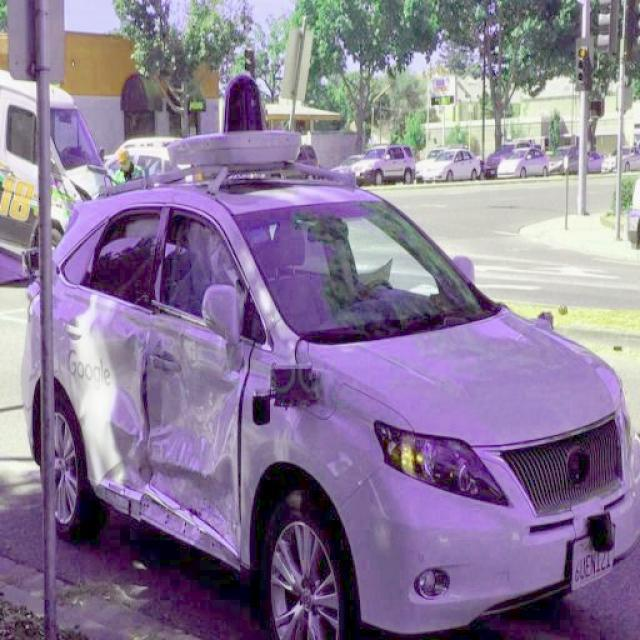car damage: (77, 289, 246, 564)
